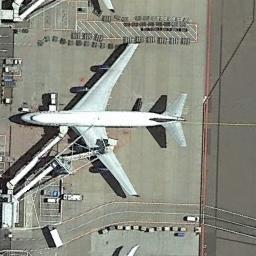Airplane: (9, 39, 195, 203)
